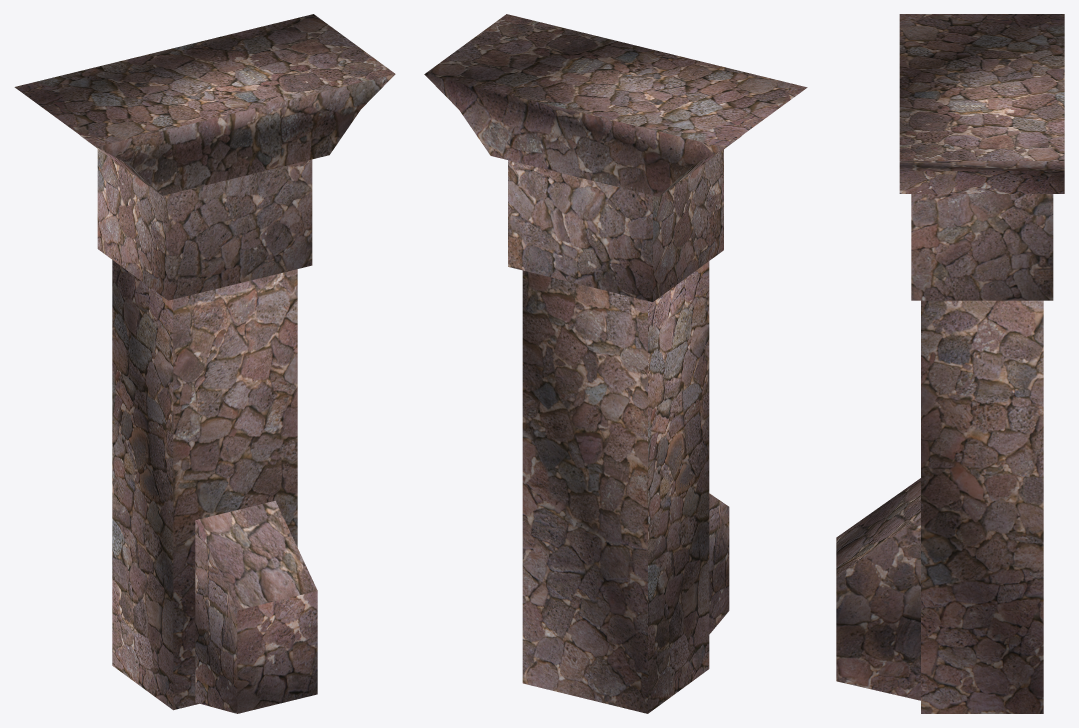
The model's file is Coluna.fbx.
The picture shows the model from 3 angles, left to right: view 1: azimuth 30°, elevation 25°; view 2: azimuth 150°, elevation 25°; view 3: azimuth 270°, elevation 25°; orthographic projection.
Parts seen in each view (by area): view 1: Coluna; view 2: Coluna; view 3: Coluna.
Boxes of the visible parts, box(x1,y1,x2,y2) form: Coluna: box(14, 14, 395, 713); Coluna: box(424, 14, 807, 713); Coluna: box(836, 14, 1064, 713).
Bounding box in the file's own units: 350 × 230 × 661.
